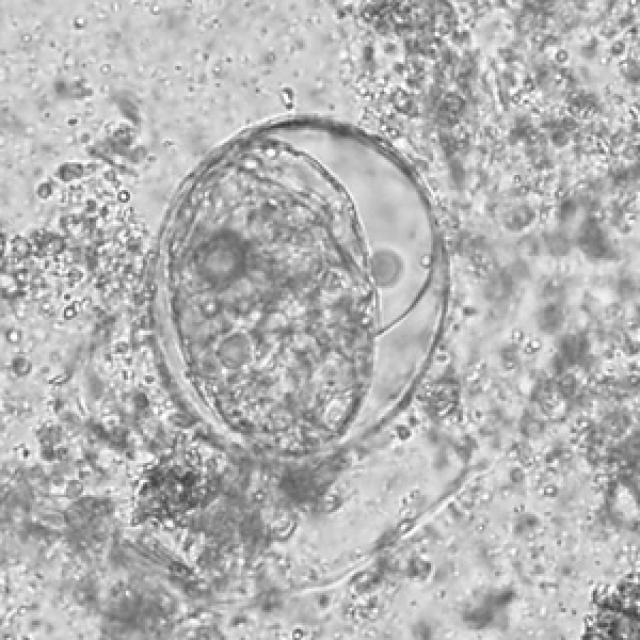Schistosoma: (139, 109, 452, 458)
